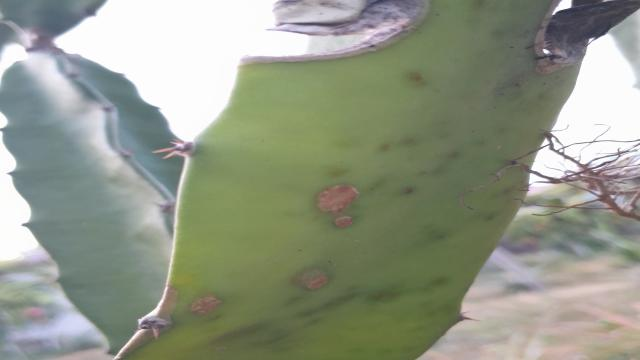stemcanker: (309, 182, 364, 231), (185, 291, 226, 319), (297, 266, 332, 296)
